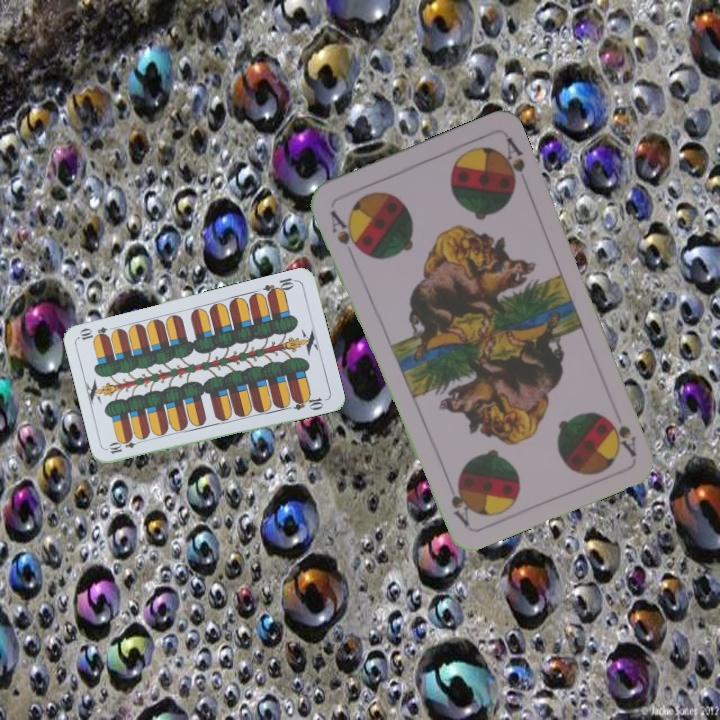E10: (259, 274, 299, 299), (105, 435, 145, 456)
SA: (326, 206, 365, 256), (604, 413, 639, 459)
